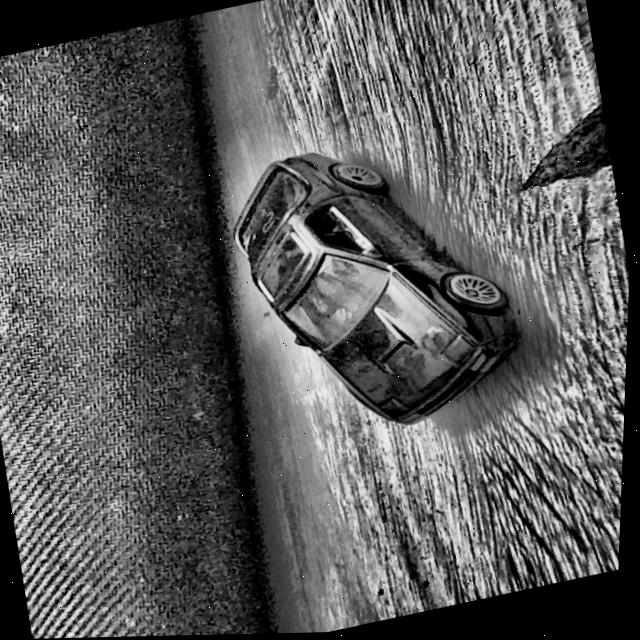car: (215, 116, 540, 457)
